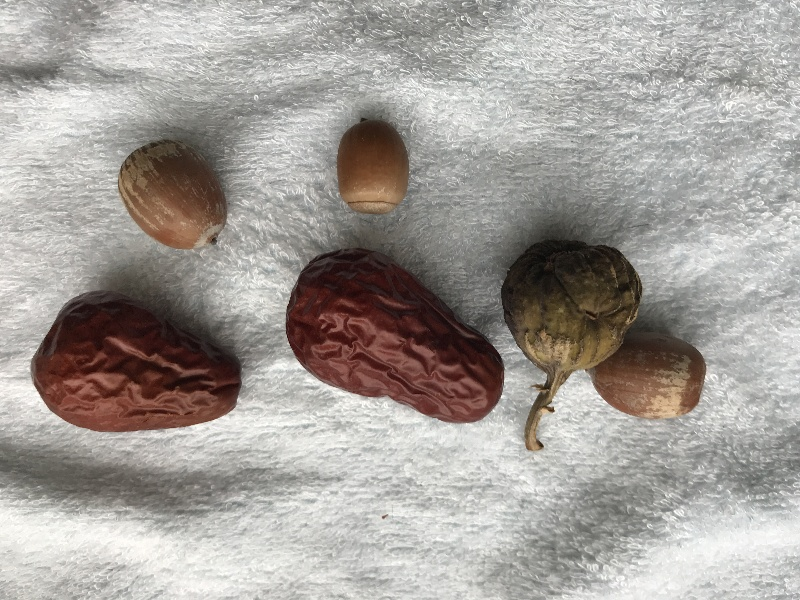date: (286, 248, 503, 424), (28, 292, 243, 434)
fig: (497, 240, 643, 455)
hazelnut: (115, 141, 226, 248), (587, 332, 706, 420), (339, 116, 409, 212)
